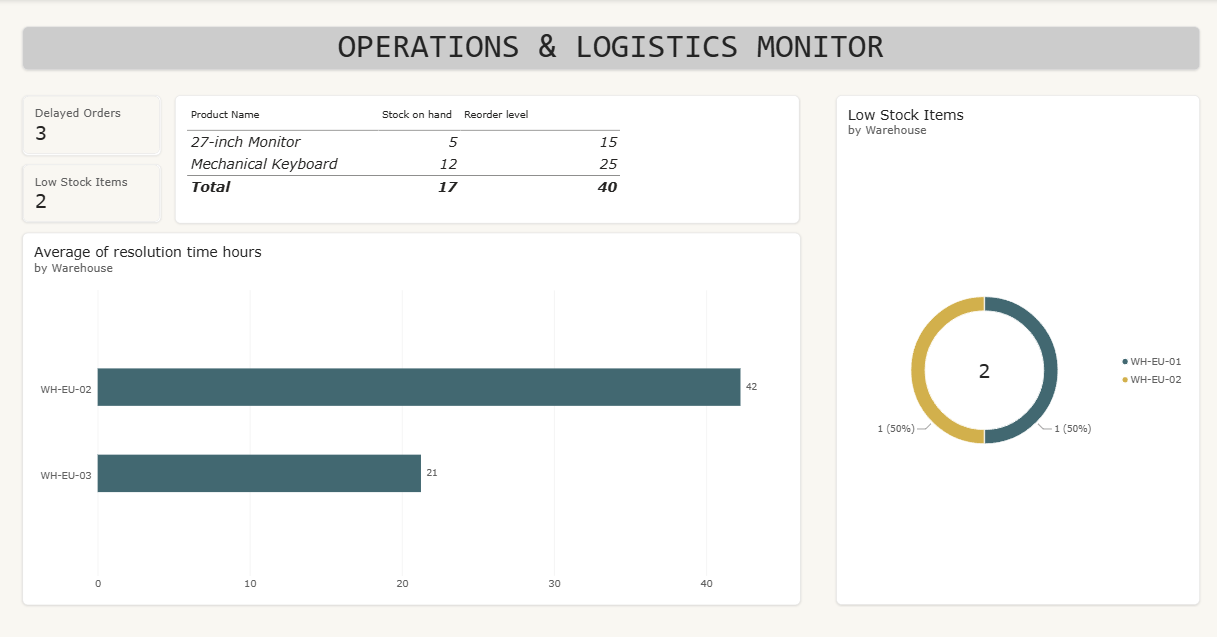

This screenshot's page, from the dashboard's own definition file:
{"tool":"powerbi","page":{"name":"Page 1","canvas":[1920,1080],"ordinal":0},"visuals":[{"type":"cardVisual","fields":{"Data":["CountNonNull(orders.order_id)"]},"box":[32.6,139.3,200.9,86.9],"z":0},{"type":"clusteredBarChart","fields":{"Category":["orders.warehouse_id"],"Y":["Avg(incidents_slas.resolution_time_hours)"]},"box":[32.6,338.4,1126.2,539.3],"z":1},{"type":"cardVisual","fields":{"Data":["incidents_slas.Low Stock Items"]},"box":[32.6,238.9,200.9,85.1],"z":2},{"type":"tableEx","fields":{"Values":["inventory_logs.product_name","Sum(inventory_logs.stock_on_hand)","Sum(inventory_logs.reorder_level)"]},"box":[253.4,139.3,904.3,185.3],"z":3},{"type":"donutChart","fields":{"Category":["inventory_logs.warehouse_id"],"Y":["incidents_slas.Low Stock Items"]},"box":[1210.7,139.3,526.4,737.4],"z":4},{"type":"textbox","box":[32.6,39.8,1704.7,63.3],"z":5}]}

Visuals, with their boxes on the page's 1920x1080 design canvas (x1, y1, x2, y2). These are canvas units, not pixel positions in the 1217x637 screenshot, which may show the page scaled, cropped or inside an application window:
cardVisual - CountNonNull(orders.order_id): BBox(33, 139, 234, 226)
clusteredBarChart - orders.warehouse_id x Avg(incidents_slas.resolution_time_hours): BBox(33, 338, 1159, 878)
cardVisual - incidents_slas.Low Stock Items: BBox(33, 239, 234, 324)
tableEx - inventory_logs.product_name x Sum(inventory_logs.stock_on_hand): BBox(253, 139, 1158, 325)
donutChart - inventory_logs.warehouse_id x incidents_slas.Low Stock Items: BBox(1211, 139, 1737, 877)
textbox: BBox(33, 40, 1737, 103)
